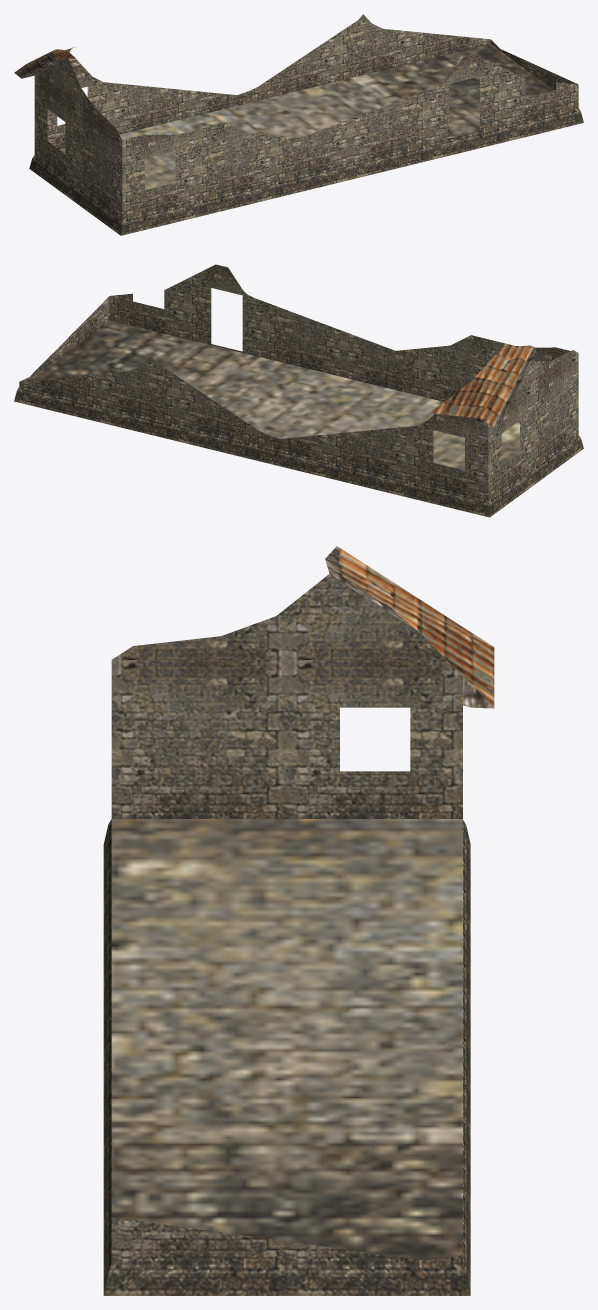
The model's file is s44_b_house_1_3_destroyed_2.dae.
3 views of the same model, one above another, from view 1: azimuth 30°, elevation 25°; view 2: azimuth 150°, elevation 25°; view 3: azimuth 270°, elevation 25° (orthographic). The views are drawn at different scales.
Visible parts, largest first — view 1: s44_b_house_1_3; view 2: s44_b_house_1_3; view 3: s44_b_house_1_3.
Part boxes in pixels (x1,y1,x2,y2): s44_b_house_1_3: (14, 14, 583, 235); s44_b_house_1_3: (14, 264, 583, 517); s44_b_house_1_3: (103, 546, 494, 1295).
Size of the model in its own units: 149 by 53.33 by 43.73.
1 material, 1 textured.
